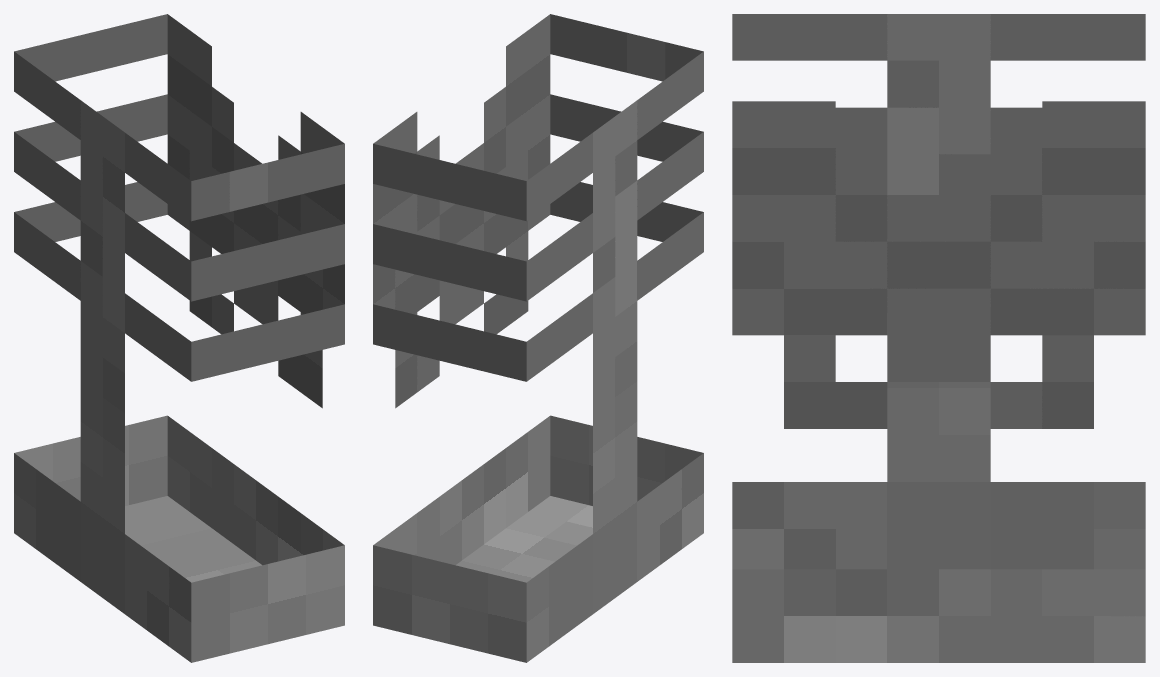
The model's file is bone_torso.obj.
3 views of the same model, side by side, from view 1: azimuth 30°, elevation 25°; view 2: azimuth 150°, elevation 25°; view 3: azimuth 270°, elevation 25° (orthographic). The views are drawn at different scales.
Parts seen in each view (by area): view 1: Torso; view 2: Torso; view 3: Torso.
Boxes of the visible parts, x1,y1,x2,y2 form: Torso: (14, 14, 344, 662); Torso: (373, 14, 703, 662); Torso: (732, 14, 1145, 662).
Size of the model in its own units: 0.25 by 0.75 by 0.5.
